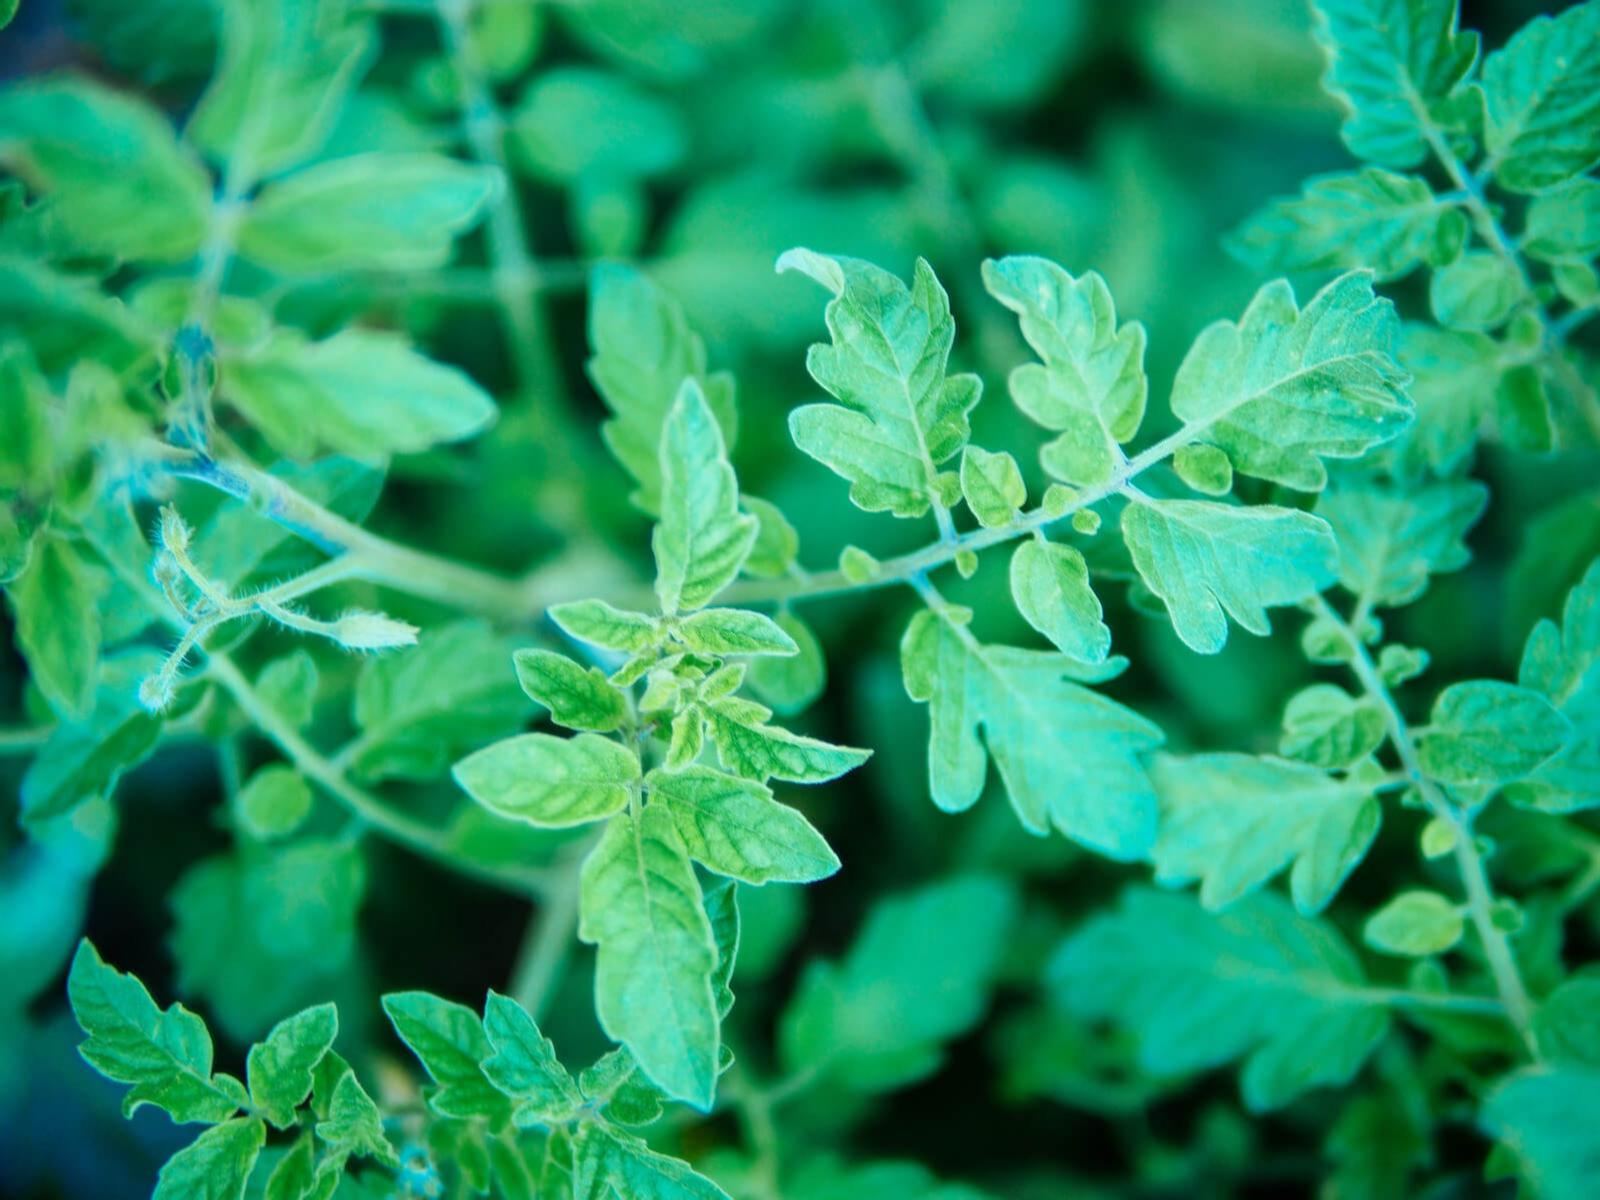Tomato leaf: (894, 580, 1157, 870), (775, 223, 981, 538), (1164, 263, 1417, 497), (580, 789, 709, 1119), (1115, 480, 1356, 657), (998, 208, 1136, 508), (630, 764, 860, 897), (643, 376, 755, 629), (449, 727, 637, 827)
